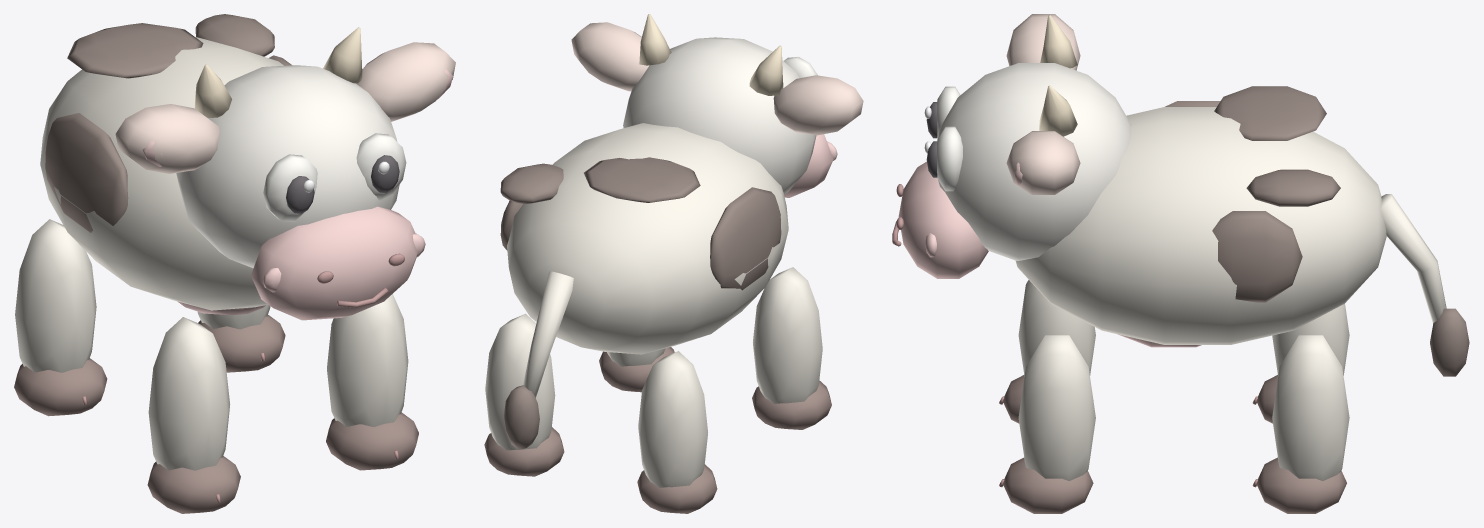
File: koe.glb
3 renders of one model, left to right at view 1: azimuth 30°, elevation 25°; view 2: azimuth 150°, elevation 25°; view 3: azimuth 270°, elevation 25°, orthographic. The views are drawn at different scales.
Parts seen in each view (by area): view 1: koe; view 2: koe; view 3: koe.
Boxes of the visible parts, left/top/right/bottom form: koe: left=14, top=14, right=455, bottom=513; koe: left=484, top=14, right=863, bottom=513; koe: left=892, top=14, right=1469, bottom=513.
Size of the model in its own units: 1.02 by 1.3 by 1.63.
